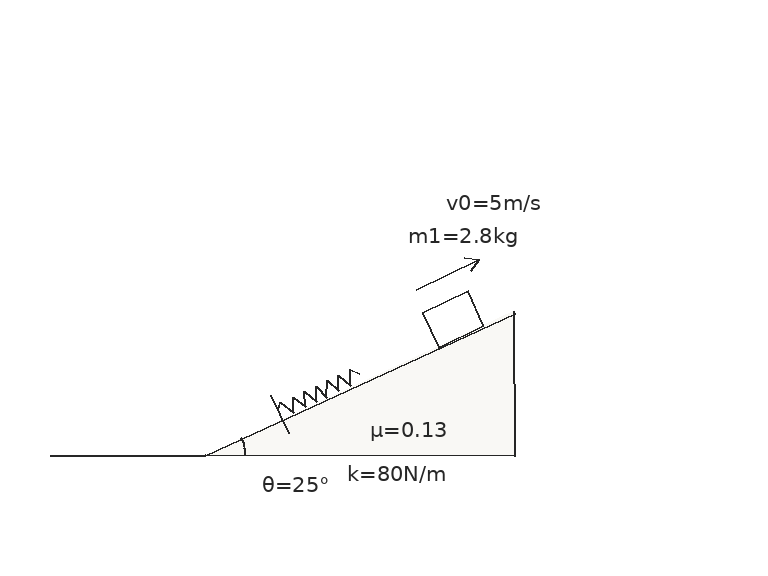block: (420, 289, 486, 349)
ramp: (203, 309, 516, 457)
spring: (276, 368, 361, 414)
